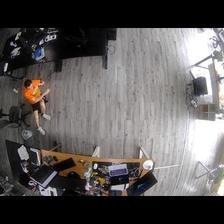fall: (22, 76, 51, 134)
